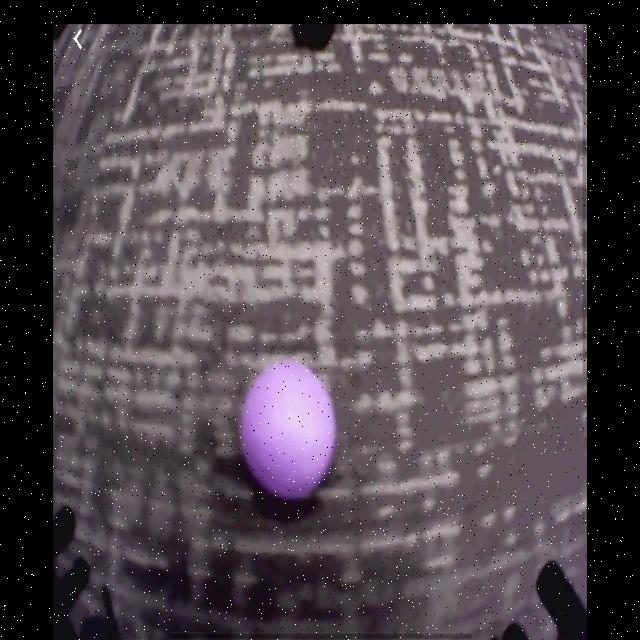ball: (242, 362, 337, 506)
